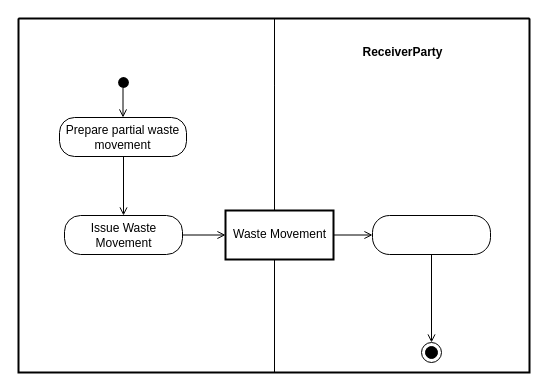
The diagram is 547 pixels wide and 390 high, and some of its shapes have lost their labels. The shapes that lost their labels are listed below. From the top down, each one's box as (x1, y1, x2, y2) in pixels, then its label:
(18, 18, 274, 372): Senderparty
(372, 214, 490, 254): Receive Waste Movement
